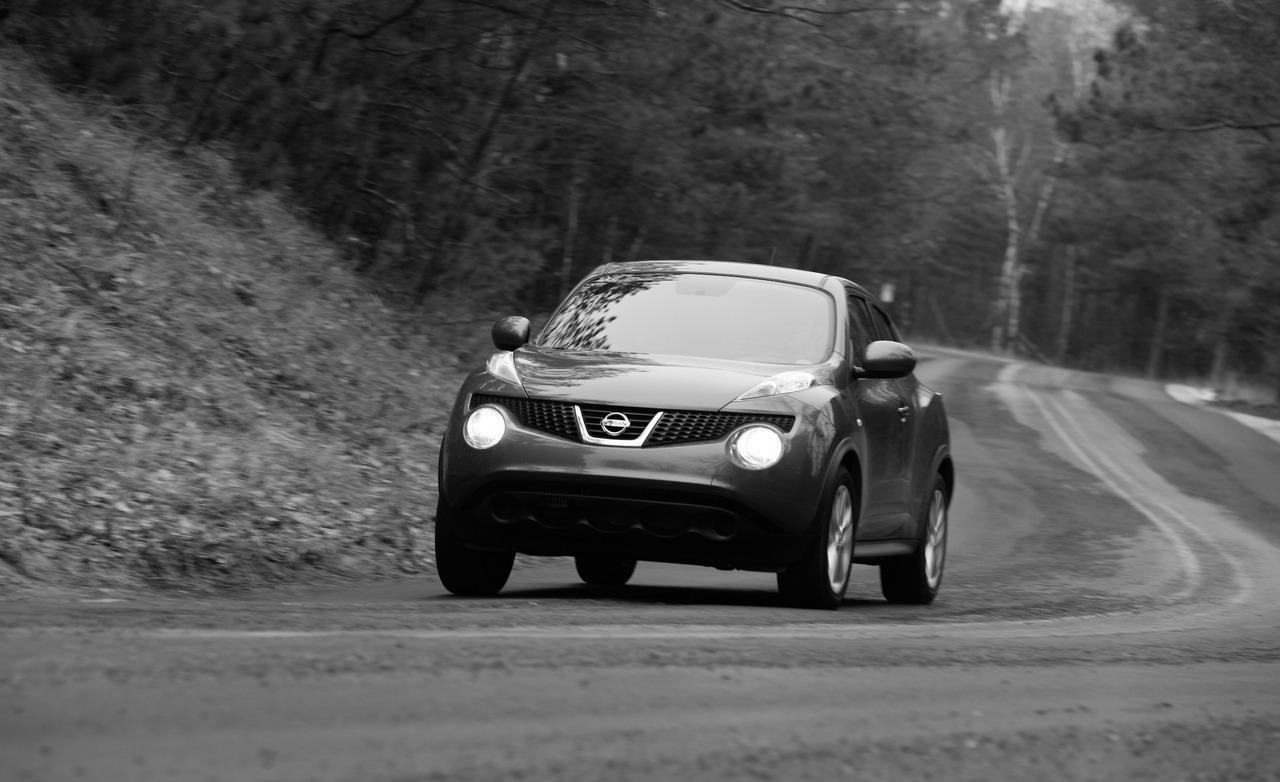car: (433, 259, 957, 613)
